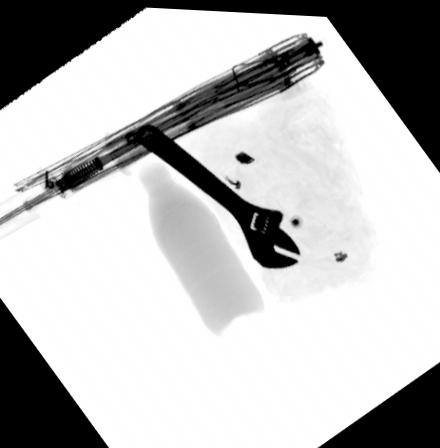Wrench: (131, 122, 301, 267)
